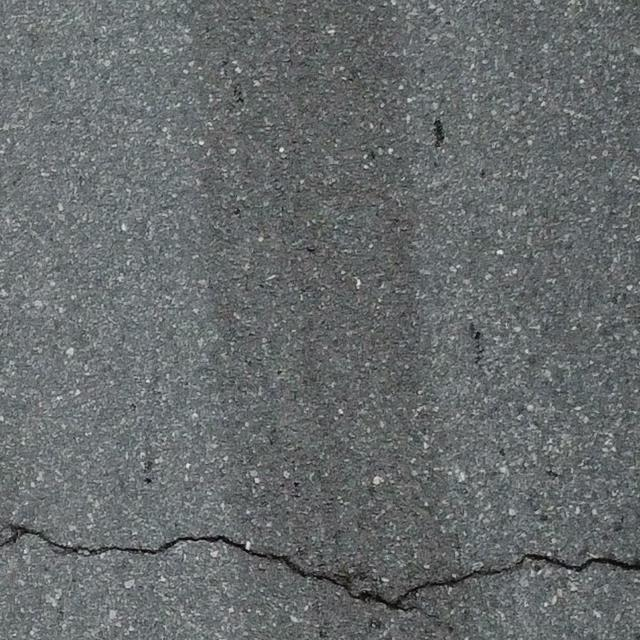TransverseCrack: (1, 523, 640, 612)
